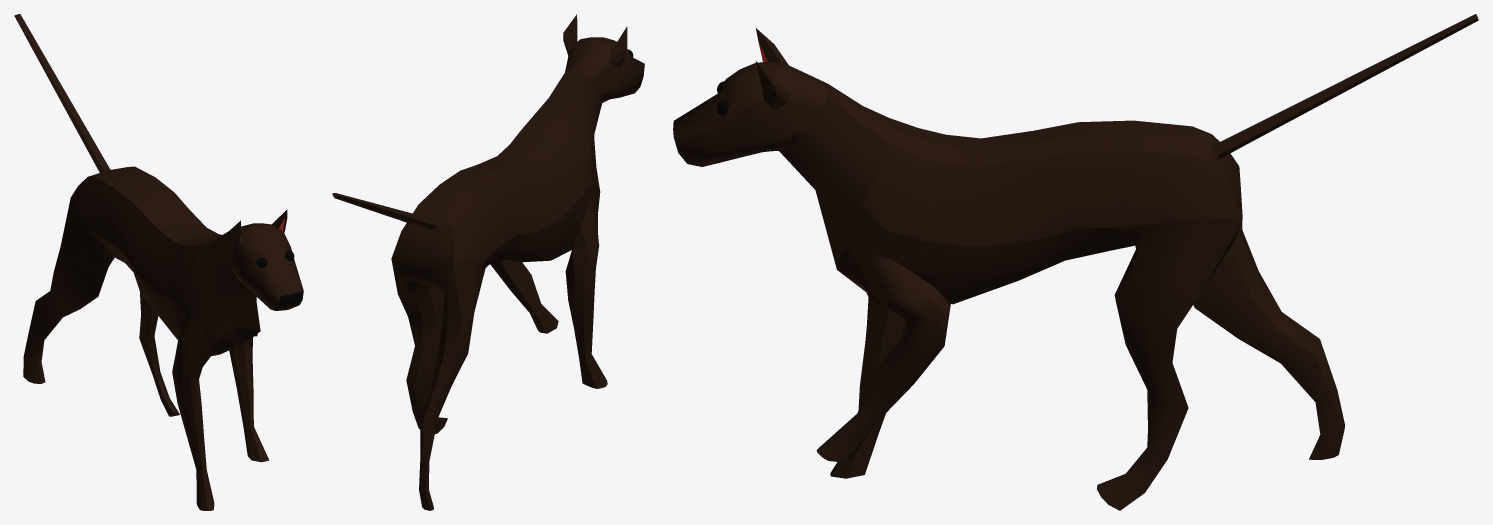
File: Dog1.obj
3 views of the same model, side by side, from view 1: azimuth 30°, elevation 25°; view 2: azimuth 150°, elevation 25°; view 3: azimuth 270°, elevation 25° (orthographic). The views are drawn at different scales.
Parts seen in each view (by area): view 1: pCube3 CharacterModel; view 2: pCube3 CharacterModel; view 3: pCube3 CharacterModel.
Part boxes in pixels (<box>): pCube3 CharacterModel: <box>14,14,303,510</box>; pCube3 CharacterModel: <box>332,14,644,510</box>; pCube3 CharacterModel: <box>673,14,1478,510</box>.
Size of the model in its own units: 1.83 by 6.56 by 9.96.
